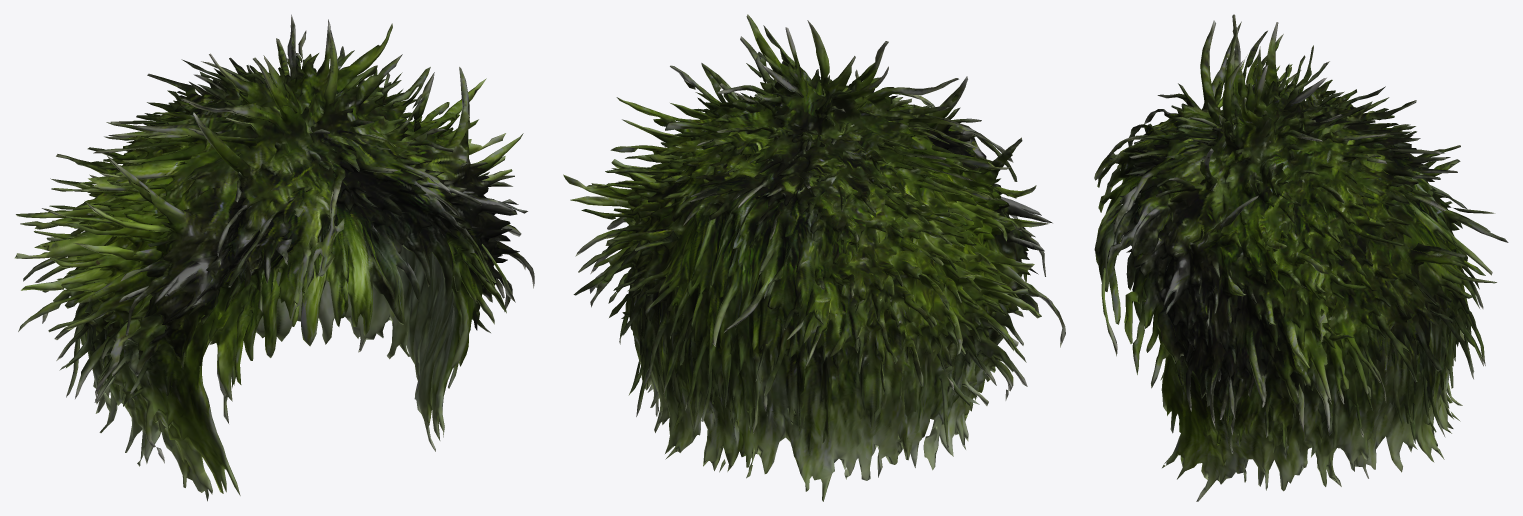
The model's file is punk-hair.glb.
3 views of the same model, side by side, from view 1: azimuth 30°, elevation 25°; view 2: azimuth 150°, elevation 25°; view 3: azimuth 270°, elevation 25° (orthographic). The views are drawn at different scales.
Parts seen in each view (by area): view 1: tripo_node_db954eba-fc61-4dbd-90b5-ec1e10cc0556; view 2: tripo_node_db954eba-fc61-4dbd-90b5-ec1e10cc0556; view 3: tripo_node_db954eba-fc61-4dbd-90b5-ec1e10cc0556.
Boxes of the visible parts, box(x1,y1,x2,y2) form: tripo_node_db954eba-fc61-4dbd-90b5-ec1e10cc0556: box(14, 14, 534, 501); tripo_node_db954eba-fc61-4dbd-90b5-ec1e10cc0556: box(563, 14, 1065, 501); tripo_node_db954eba-fc61-4dbd-90b5-ec1e10cc0556: box(1094, 14, 1508, 501).
Size of the model in its own units: 1.81 by 1.48 by 1.38.
Materials: 1 (1 with a texture image).
